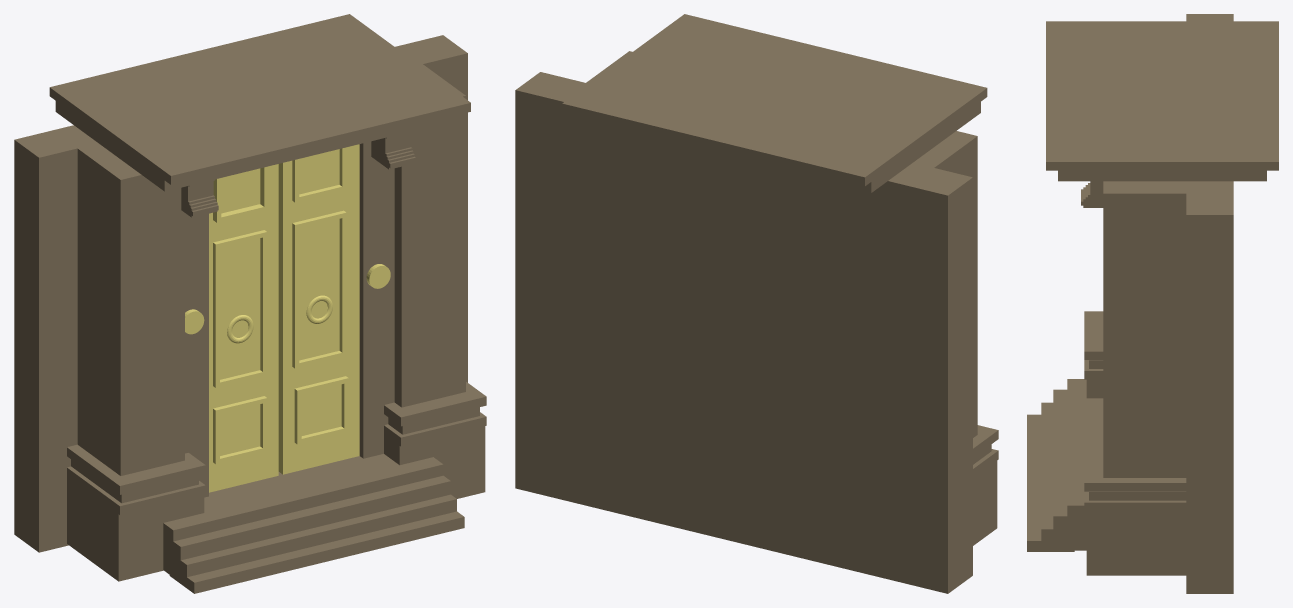
The model's file is puerta.glb.
The picture shows the model from 3 angles, left to right: view 1: azimuth 30°, elevation 25°; view 2: azimuth 150°, elevation 25°; view 3: azimuth 270°, elevation 25°; orthographic projection. The views are drawn at different scales.
Visible parts, largest first — view 1: Cubo.015, Toroide.001; view 2: Cubo.015; view 3: Cubo.015.
Boxes of the visible parts, x1=… form: Cubo.015: x1=14, y1=14, x2=486, y2=593; Toroide.001: x1=185, y1=144, x2=390, y2=492; Cubo.015: x1=515, y1=14, x2=998, y2=593; Cubo.015: x1=1027, y1=14, x2=1278, y2=593.
Size of the model in its own units: 2 by 1.85 by 1.06.
2 materials, 1 textured.
